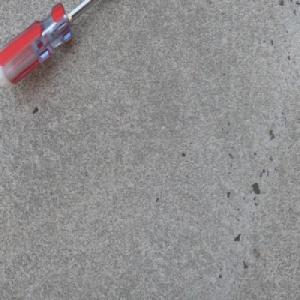Screwdriver: (0, 0, 103, 91)
